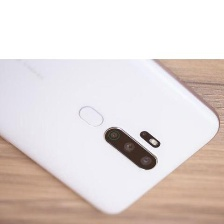phone: (0, 0, 224, 220)
